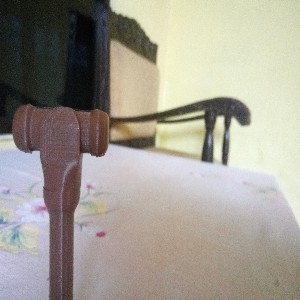palu: (11, 101, 111, 300)
